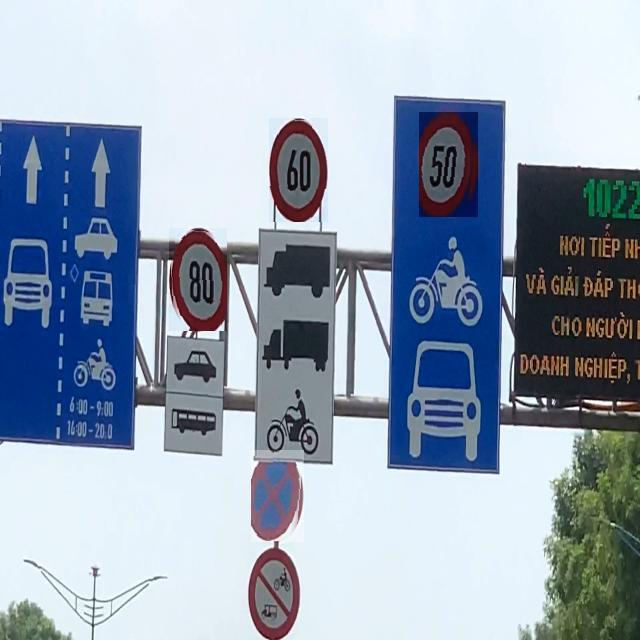P-127: (419, 112, 478, 217), (269, 118, 328, 222), (169, 228, 227, 331)
P-130: (251, 450, 304, 542)
